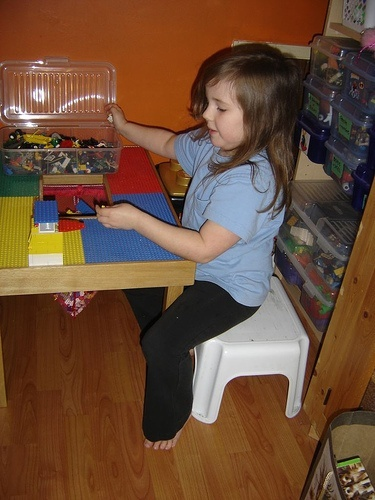head: (201, 45, 304, 151)
person: (94, 46, 289, 453)
